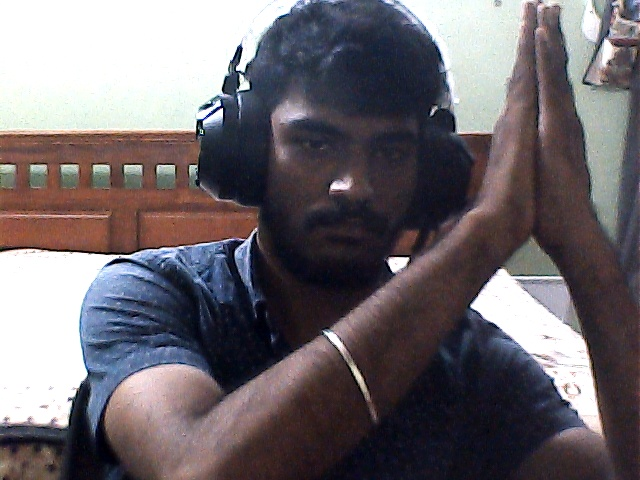Sign: (491, 2, 599, 265)
